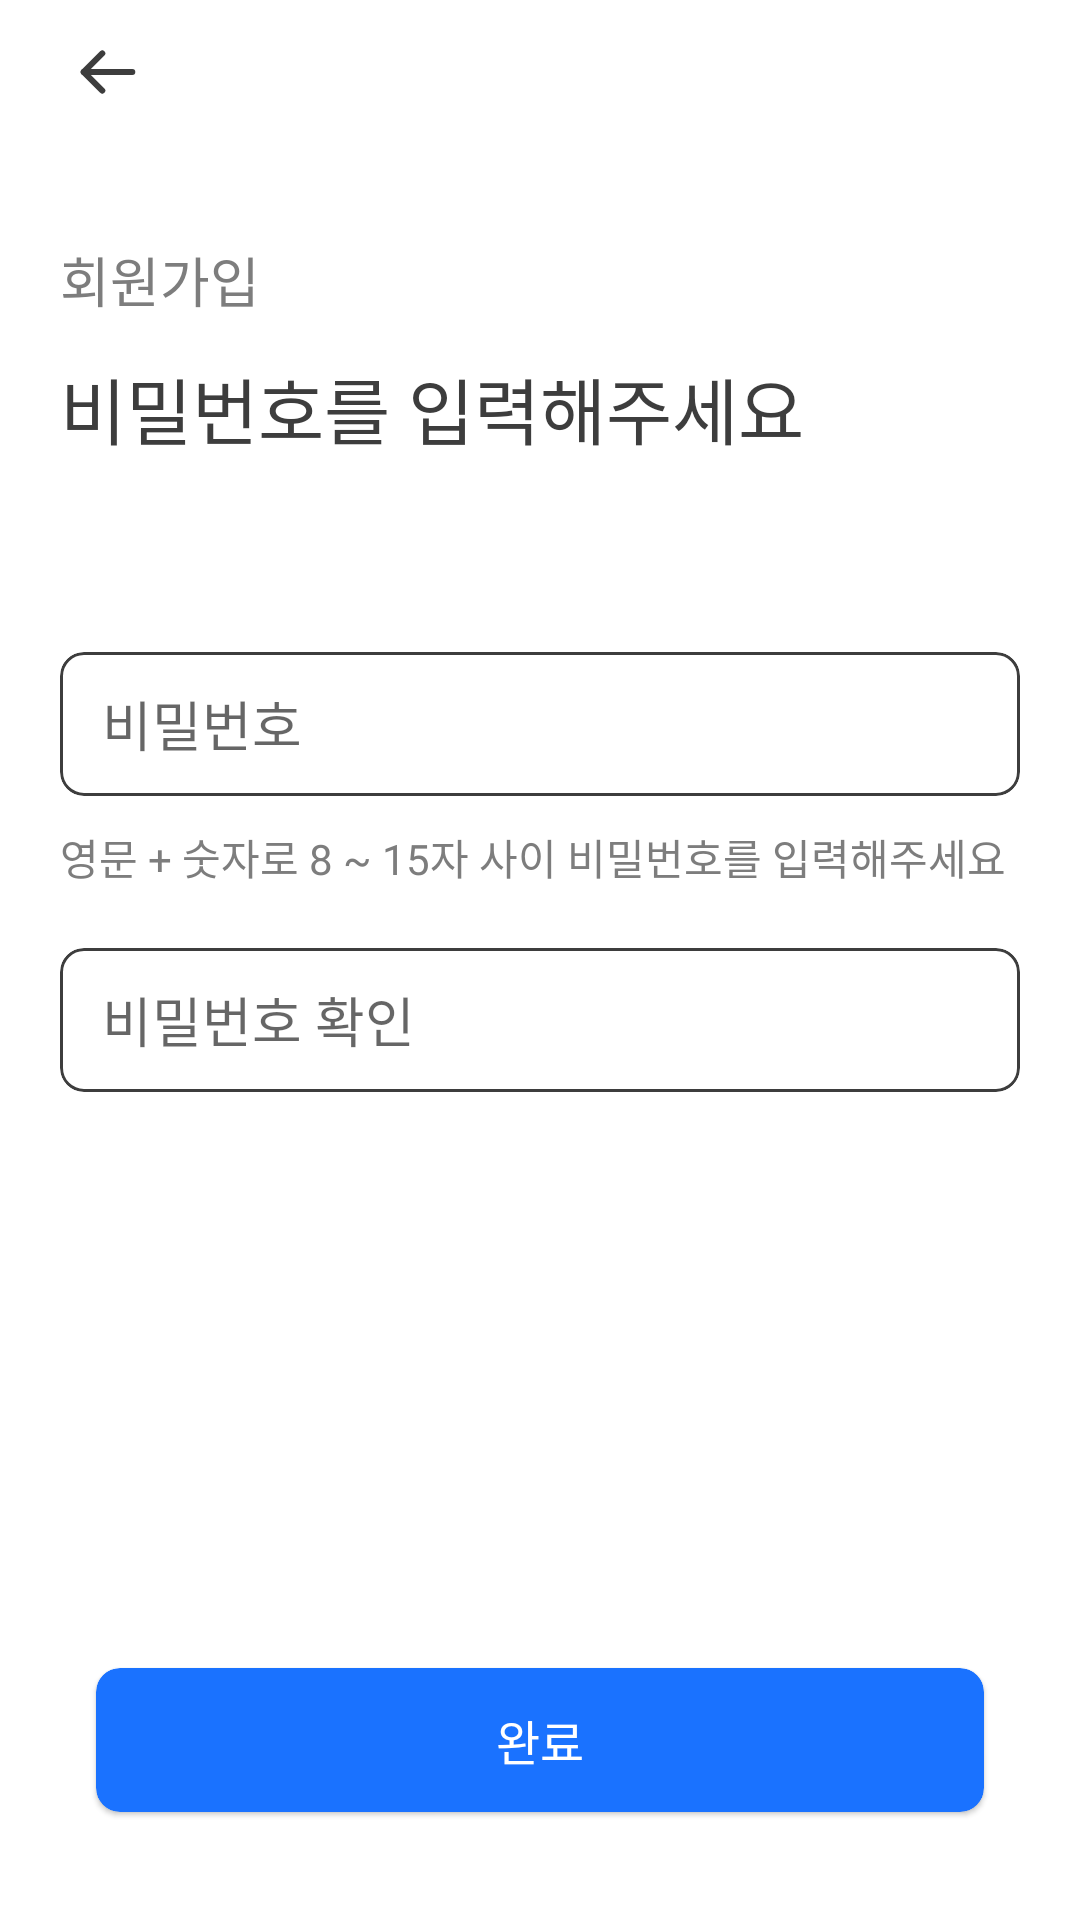

Icon bounding boxes for this 1080px x 1920px phone screenshot, format (x1, y1, x2, y2):
back: (80, 50, 136, 94)
